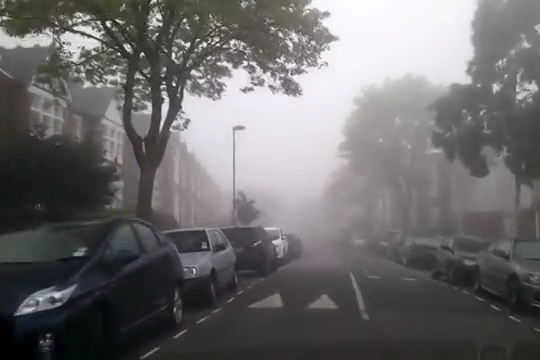car: (1, 219, 187, 360), (143, 227, 241, 305), (473, 236, 540, 309), (434, 229, 498, 289), (213, 224, 278, 278), (391, 230, 441, 269), (249, 226, 289, 263), (374, 224, 413, 258), (269, 233, 301, 260), (348, 227, 369, 247)
